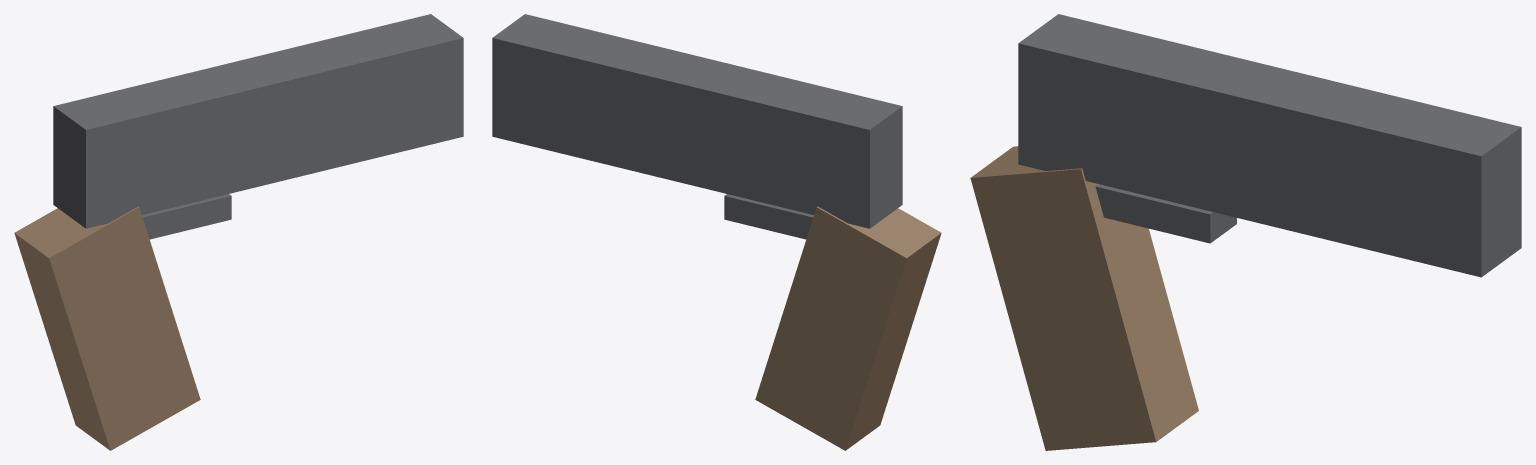
The model's file is held_weapon_grach.glb.
The picture shows the model from 3 angles, left to right: view 1: azimuth 30°, elevation 25°; view 2: azimuth 150°, elevation 25°; view 3: azimuth 330°, elevation 25°; orthographic projection. The views are drawn at different scales.
Visible parts, largest first — view 1: held_weapon_grach; view 2: held_weapon_grach; view 3: held_weapon_grach.
Boxes of the visible parts, <box> form: held_weapon_grach: <box>14,14,463,450</box>; held_weapon_grach: <box>492,14,941,450</box>; held_weapon_grach: <box>970,14,1521,450</box>.
Bounding box in the file's own units: 0.2201 × 0.1649 × 0.032.
